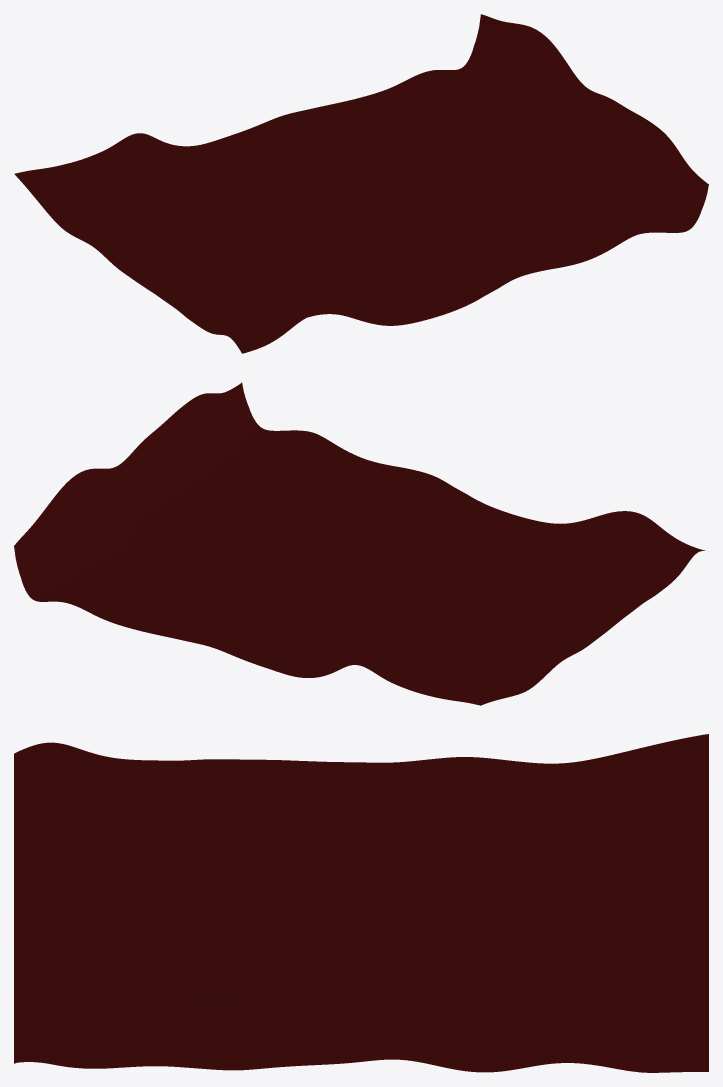
The model's file is DesertBiome.fbx.
3 renders of one model, top to bottom at view 1: azimuth 30°, elevation 25°; view 2: azimuth 150°, elevation 25°; view 3: azimuth 270°, elevation 25°, orthographic. The views are drawn at different scales.
Parts seen in each view (by area): view 1: Landscape2; view 2: Landscape2; view 3: Landscape2.
Part boxes in pixels (x1,y1,x2,y2): Landscape2: [14, 14, 708, 353]; Landscape2: [14, 382, 705, 705]; Landscape2: [14, 734, 708, 1072].
Size of the model in its own units: 54600 by 46200 by 10699.
